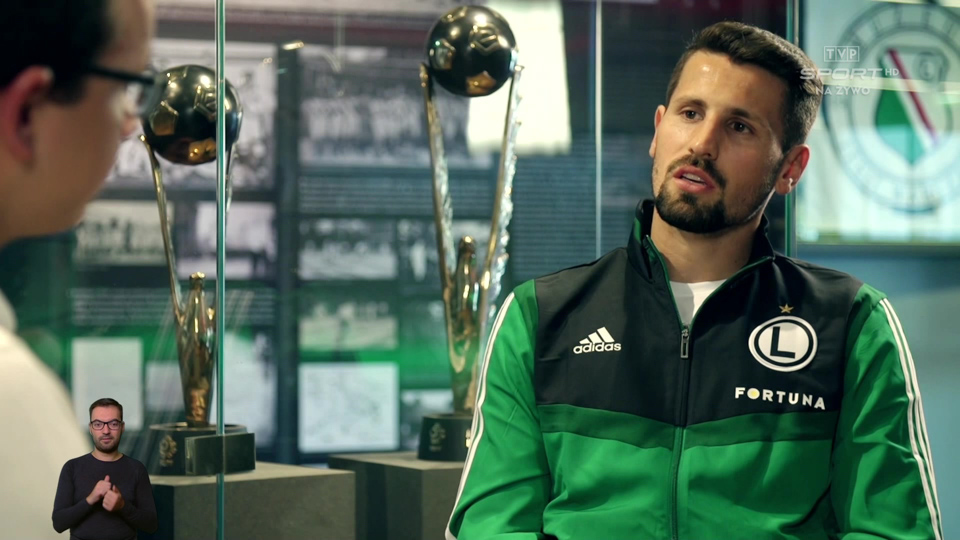Adidas: (571, 326, 624, 354)
